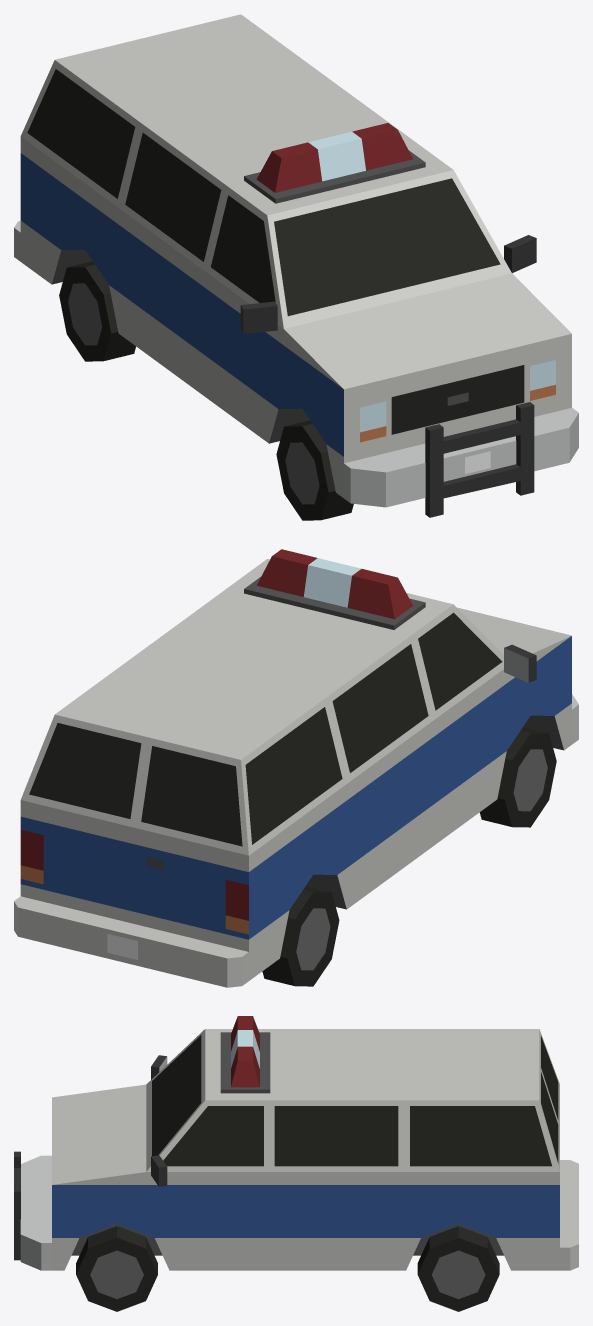
File: Veh_Police_Van.glb
3 renders of one model, top to bottom at view 1: azimuth 30°, elevation 25°; view 2: azimuth 150°, elevation 25°; view 3: azimuth 270°, elevation 25°, orthographic. The views are drawn at different scales.
Parts seen in each view (by area): view 1: Police_Van, Wheel_FR, Wheel_RR; view 2: Police_Van, Wheel_FR, Wheel_RR; view 3: Police_Van, Wheel_RL, Wheel_FL.
Part boxes in pixels (box(x1,y1,x2,y2)): Police_Van: box(14, 14, 578, 517); Wheel_FR: box(276, 420, 353, 520); Wheel_RR: box(59, 261, 135, 361); Police_Van: box(14, 549, 578, 987); Wheel_FR: box(479, 727, 556, 827); Wheel_RR: box(262, 886, 339, 986); Police_Van: box(14, 1016, 578, 1270); Wheel_RL: box(417, 1226, 499, 1311); Wheel_FL: box(76, 1226, 157, 1311).
Size of the model in its own units: 1.38 by 1.31 by 2.93.
1 material, 1 textured.
